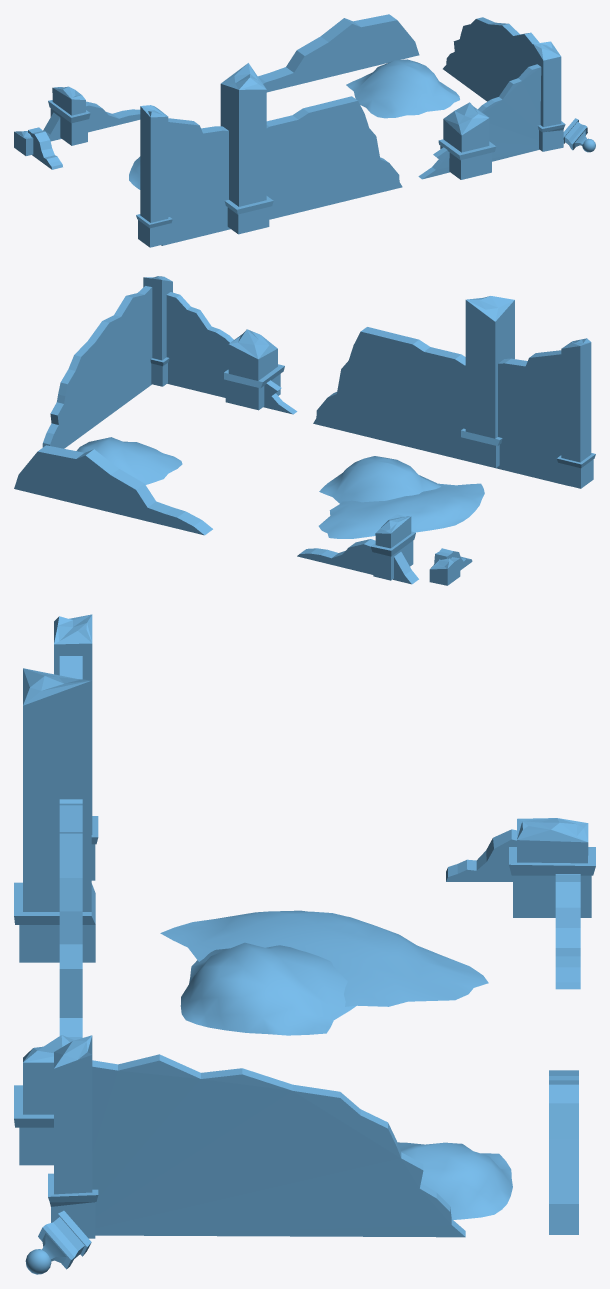
Rendered from mesh_OswiecimGrSynagogueRuins.fbx.
3 renders of one model, top to bottom at view 1: azimuth 30°, elevation 25°; view 2: azimuth 150°, elevation 25°; view 3: azimuth 270°, elevation 25°, orthographic. The views are drawn at different scales.
Visible parts, largest first — view 1: PillarsFB; view 2: PillarsFB; view 3: PillarsFB.
Boxes of the visible parts, x1,y1,x2,y2 form: PillarsFB: [14, 14, 595, 247]; PillarsFB: [14, 276, 595, 585]; PillarsFB: [14, 614, 595, 1274].
Bounding box in the file's own units: 1674 × 577 × 1017.
